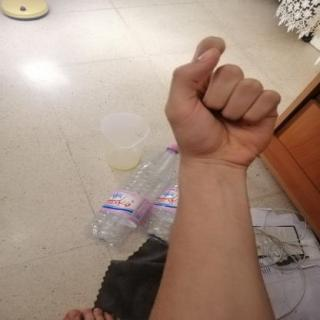FAA: (155, 29, 293, 174)
